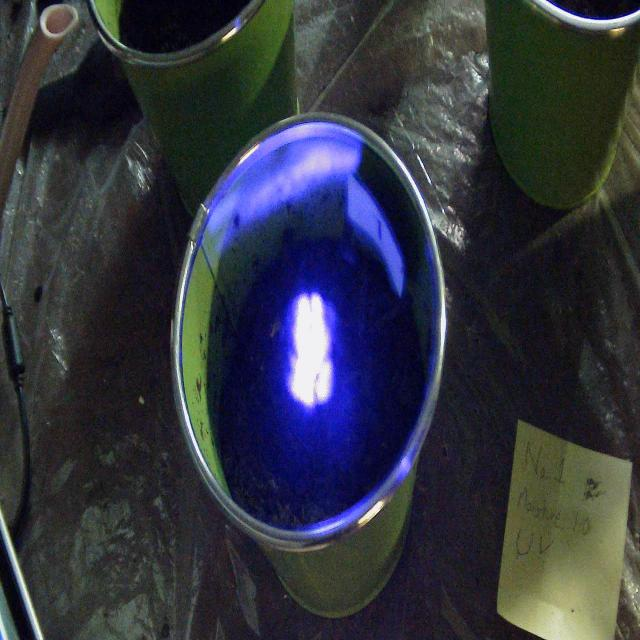soil-moisture-1.0: (290, 294, 336, 411)
